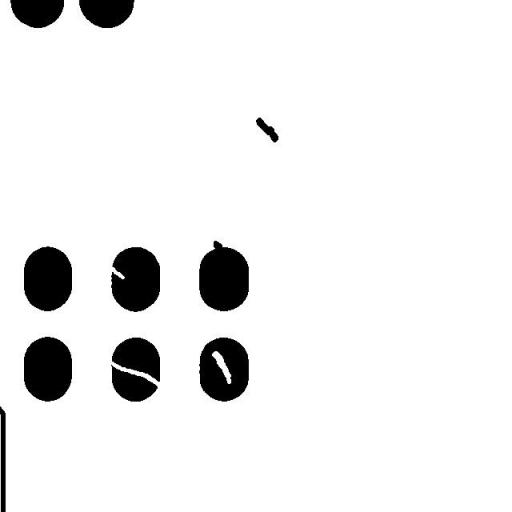copper: (248, 110, 286, 150)
mousebite: (102, 258, 132, 286)
open: (99, 352, 169, 394)
pin-hole: (204, 343, 238, 391)
spur: (206, 233, 230, 260)
